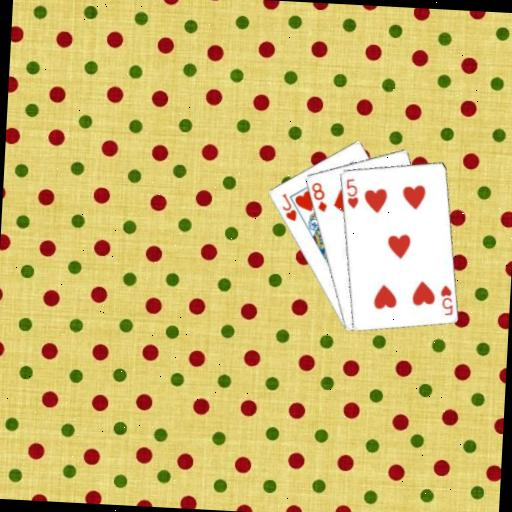5H: (436, 281, 456, 317), (342, 175, 361, 211)
8D: (307, 179, 330, 214)
JH: (278, 190, 300, 223)
